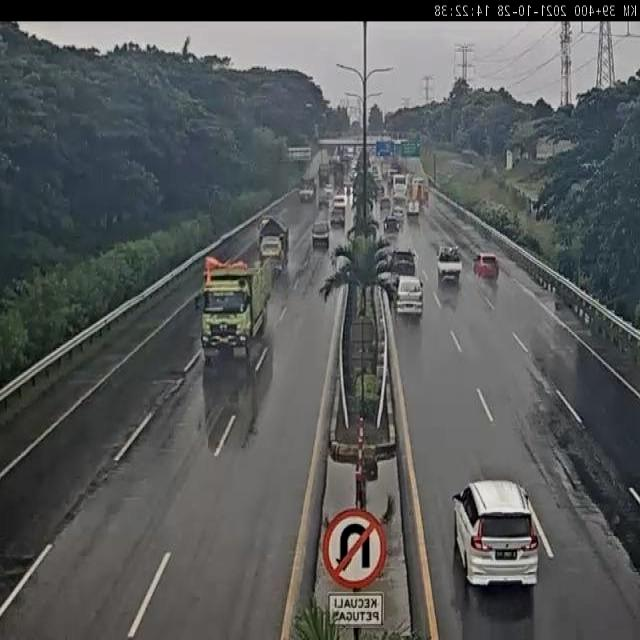Bus: (392, 172, 408, 202)
Car: (452, 480, 539, 587), (390, 248, 418, 277), (473, 253, 499, 279), (311, 220, 330, 248), (332, 193, 349, 224), (383, 212, 401, 232), (379, 195, 392, 214), (322, 186, 334, 204)
Truck: (200, 254, 272, 363), (257, 216, 290, 280), (436, 245, 462, 282), (299, 180, 315, 203), (407, 200, 420, 217)
Van: (394, 276, 424, 318)
